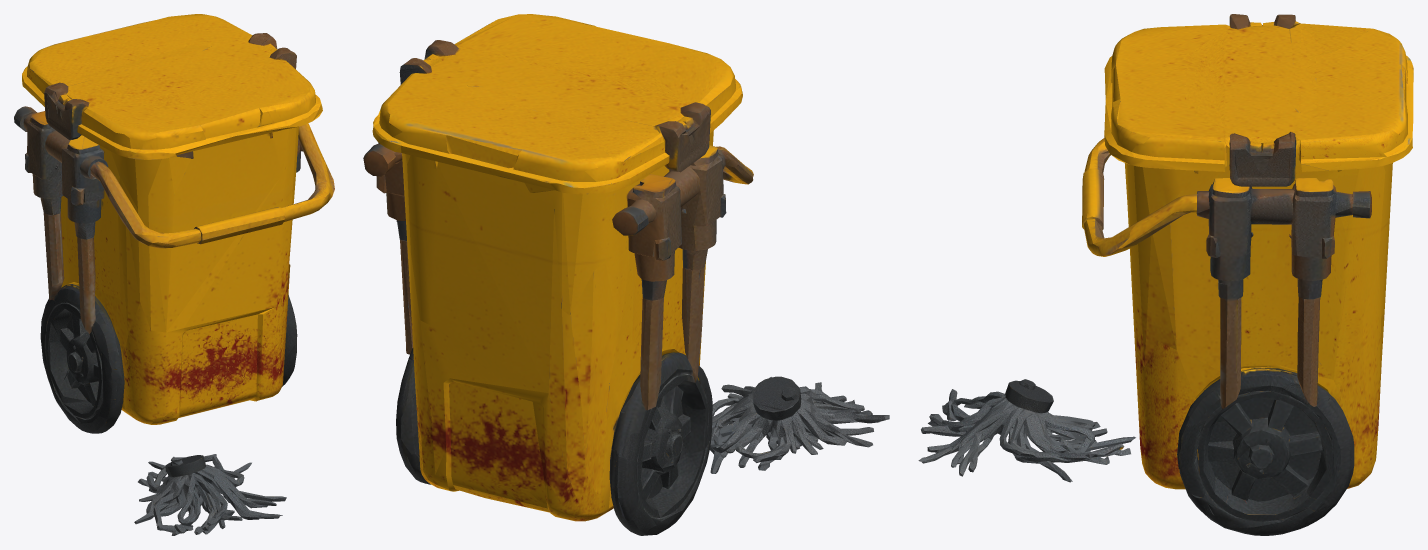
Rendered from secchio_mocio.glb.
3 renders of one model, left to right at view 1: azimuth 30°, elevation 25°; view 2: azimuth 150°, elevation 25°; view 3: azimuth 270°, elevation 25°, orthographic. The views are drawn at different scales.
Size of the model in its own units: 1.35 by 1.66 by 1.82.
1 material, 1 textured.
